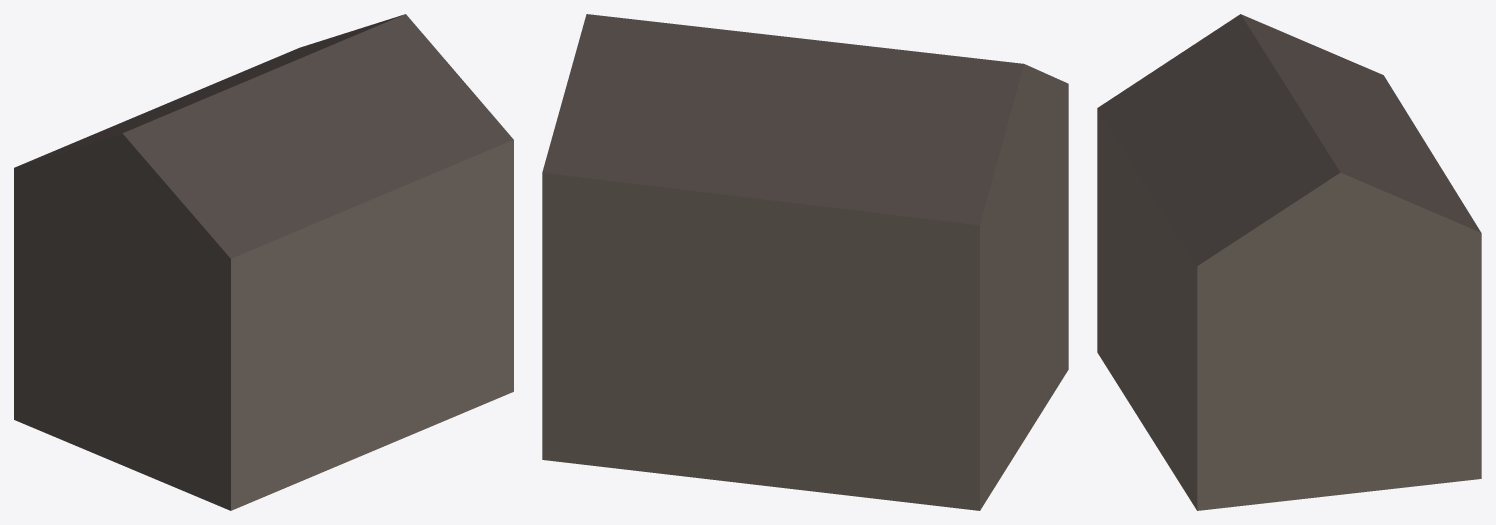
3 views of the same model, side by side, from view 1: azimuth 30°, elevation 25°; view 2: azimuth 150°, elevation 25°; view 3: azimuth 270°, elevation 25° (orthographic). The views are drawn at different scales.
Visible parts, largest first — view 1: HP-w1198723269; view 2: HP-w1198723269; view 3: HP-w1198723269.
Part boxes in pixels (<box>): HP-w1198723269: <box>14,14,513,510</box>; HP-w1198723269: <box>542,14,1068,510</box>; HP-w1198723269: <box>1097,14,1481,510</box>.
Size of the model in its own units: 10.05 by 7.9 by 8.54.
